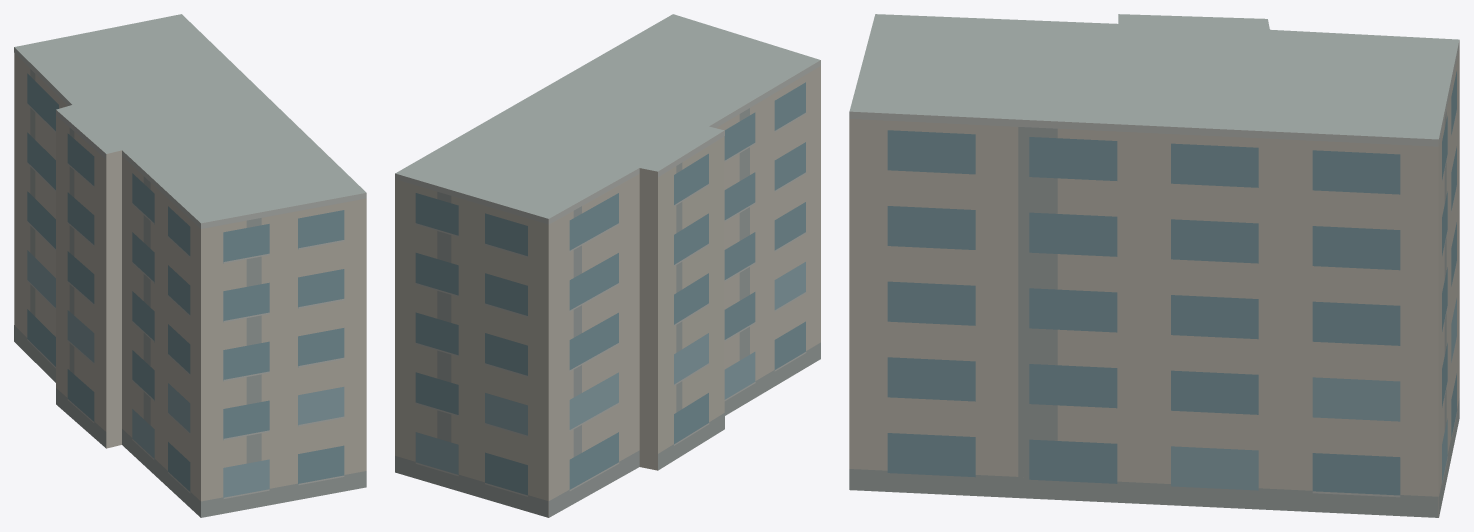
File: survey-upis-32637858.glb
3 renders of one model, left to right at view 1: azimuth 30°, elevation 25°; view 2: azimuth 150°, elevation 25°; view 3: azimuth 270°, elevation 25°, orthographic. The views are drawn at different scales.
Visible parts, largest first — view 1: survey-upis-32637858.tmp; view 2: survey-upis-32637858.tmp; view 3: survey-upis-32637858.tmp.
Part boxes in pixels (bbox=[...]): survey-upis-32637858.tmp: bbox=[14, 14, 366, 517]; survey-upis-32637858.tmp: bbox=[395, 14, 820, 517]; survey-upis-32637858.tmp: bbox=[849, 14, 1459, 517].
Bounding box in the file's own units: 9.04 × 12.7 × 18.57.
